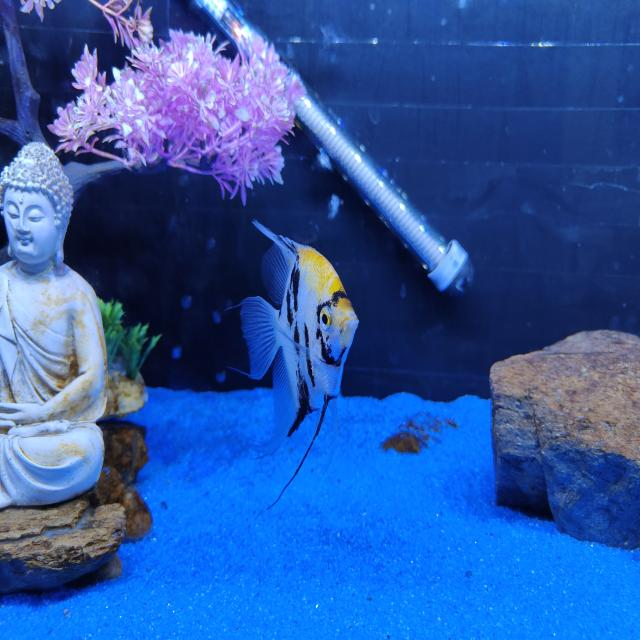Fish: (239, 221, 357, 503)
